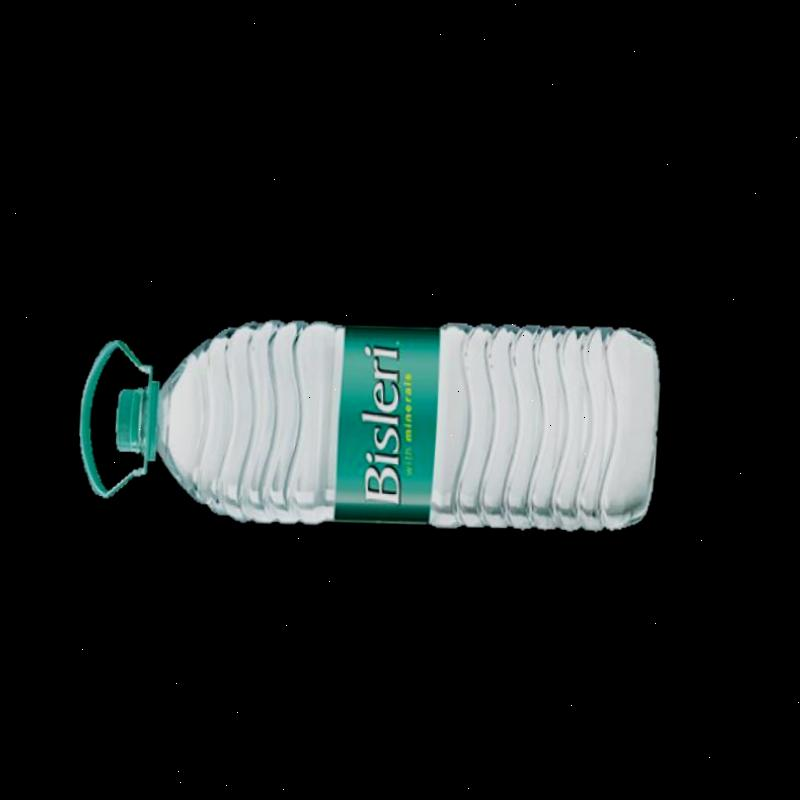botella: (113, 290, 674, 538)
